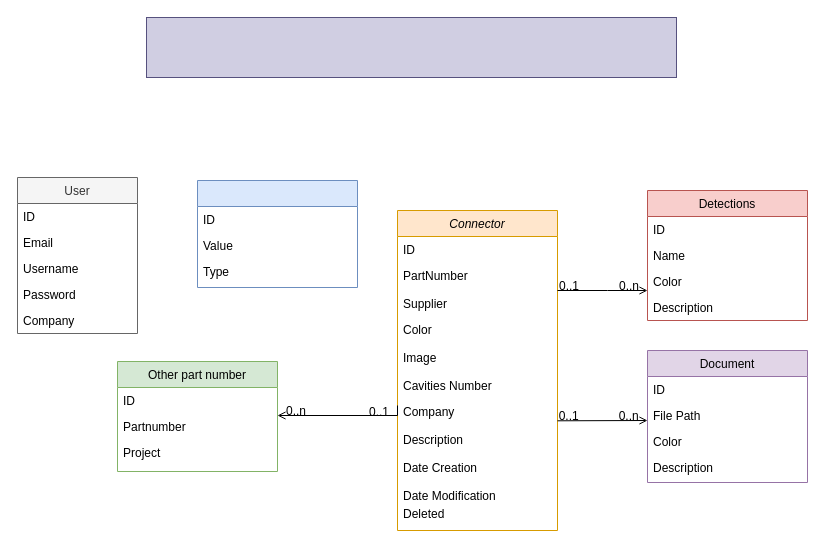
This 825x548 diagram has some shape labels left out. Each missing label, with the box of its shape:
CONNECTOR ARCHIVE CLASS DIAGRAME: (146, 16, 676, 78)
Proprity DropDopwn: (196, 180, 358, 288)
